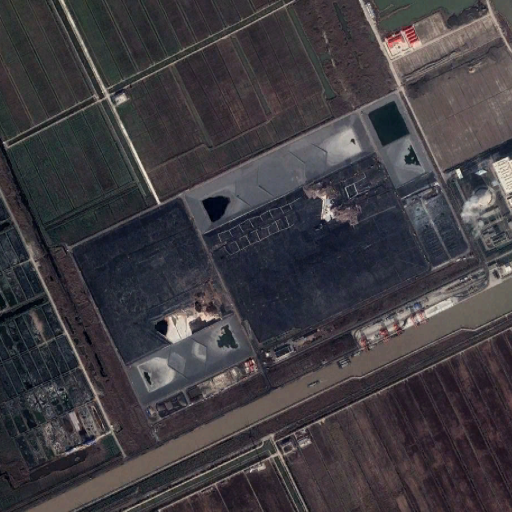lf: (73, 109, 468, 405)
